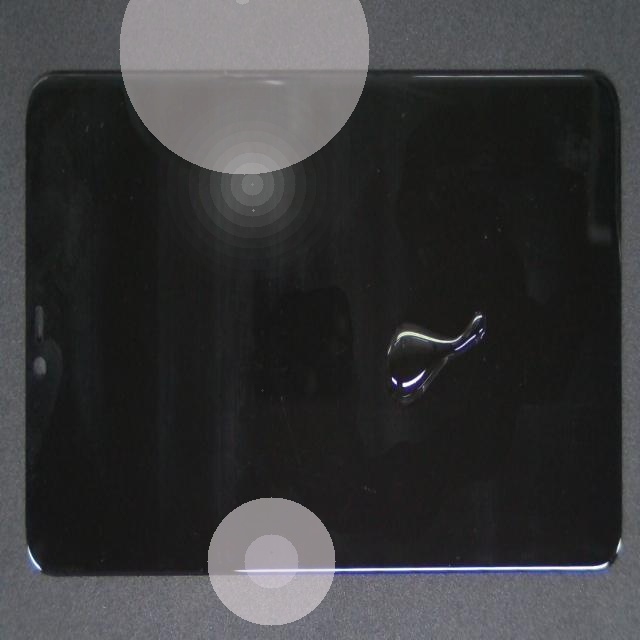oil: (246, 175, 640, 501)
